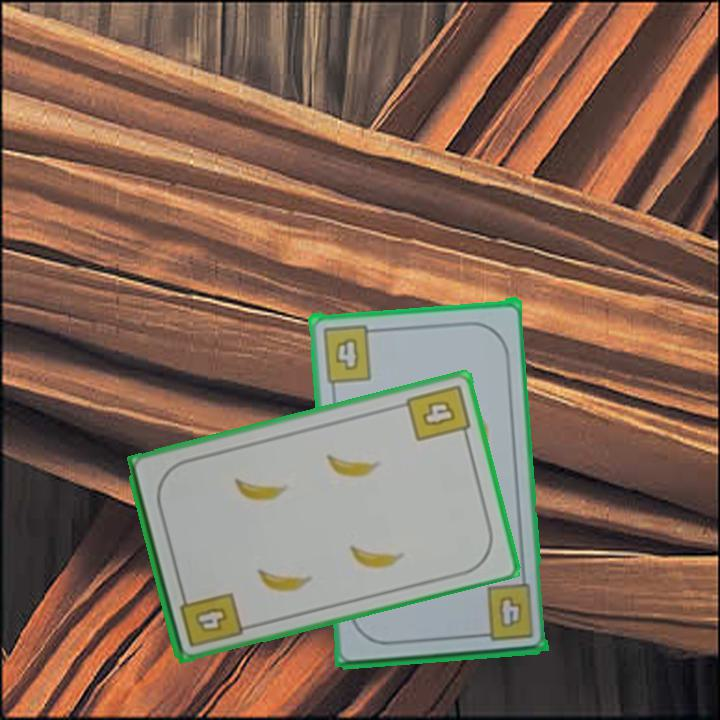4b: (402, 380, 473, 444), (175, 586, 245, 650), (318, 320, 382, 385), (473, 580, 536, 645)
